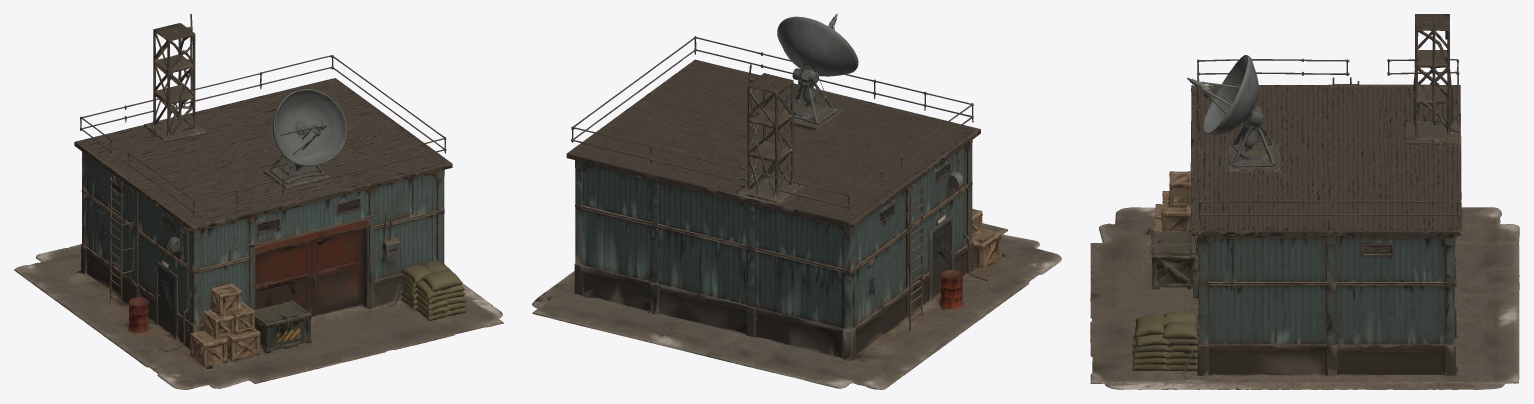
File: relay_post.glb
3 renders of one model, left to right at view 1: azimuth 30°, elevation 25°; view 2: azimuth 150°, elevation 25°; view 3: azimuth 270°, elevation 25°, orthographic. The views are drawn at different scales.
Parts seen in each view (by area): view 1: relay_post; view 2: relay_post; view 3: relay_post.
Part boxes in pixels (left/top/right/bottom): relay_post: left=14, top=14, right=503, bottom=389; relay_post: left=532, top=14, right=1061, bottom=389; relay_post: left=1090, top=14, right=1519, bottom=389.
Size of the model in its own units: 1.9 by 1.35 by 1.9.
Materials: 1 (1 with a texture image).
